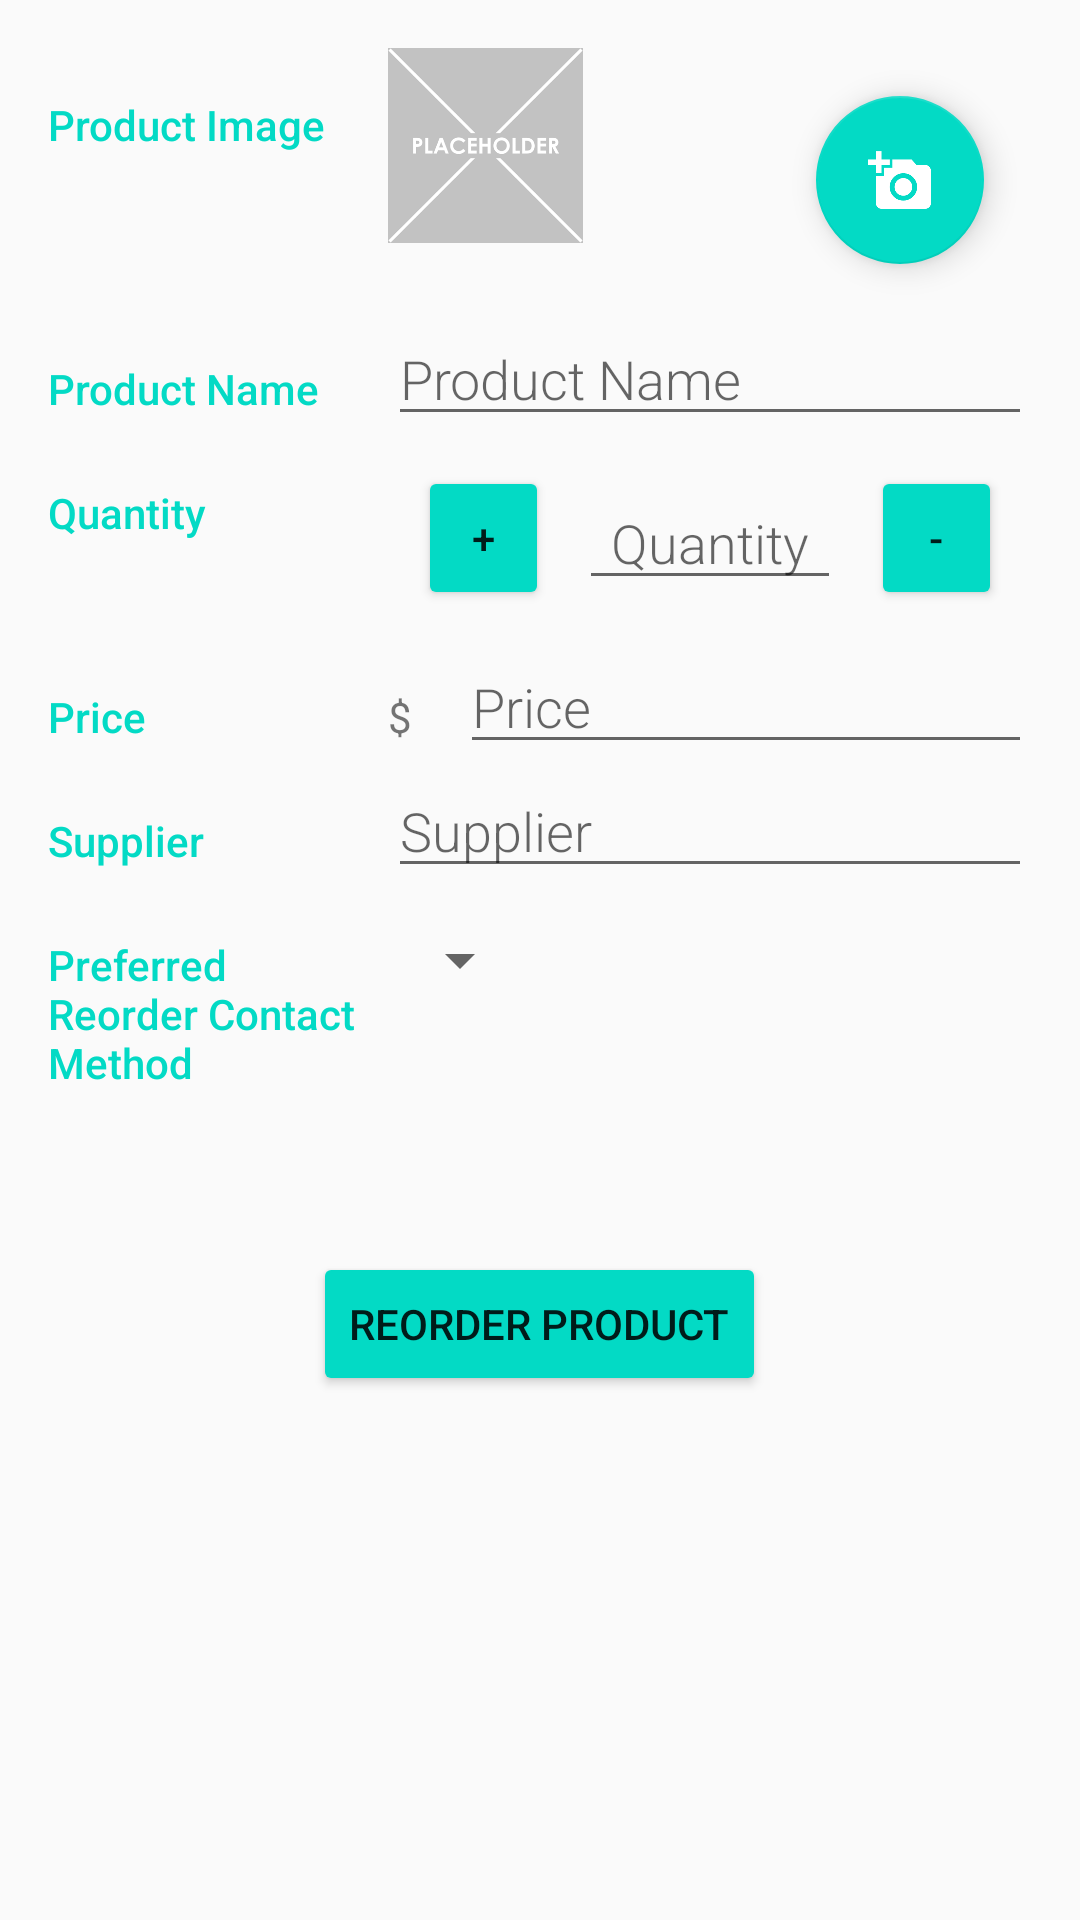

Screen size 1080 x 1920. Icon name, then its center in pixels as (x,y):
add photo: (900,180)
